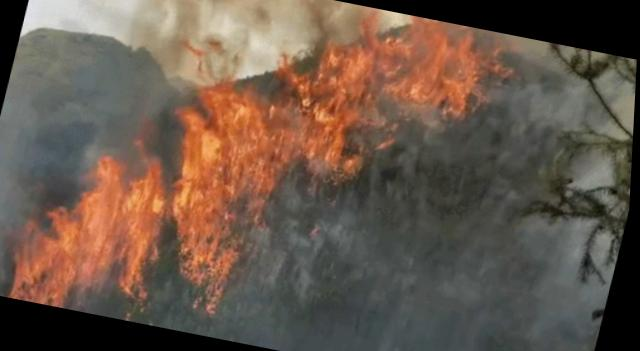fire: (0, 0, 498, 349)
